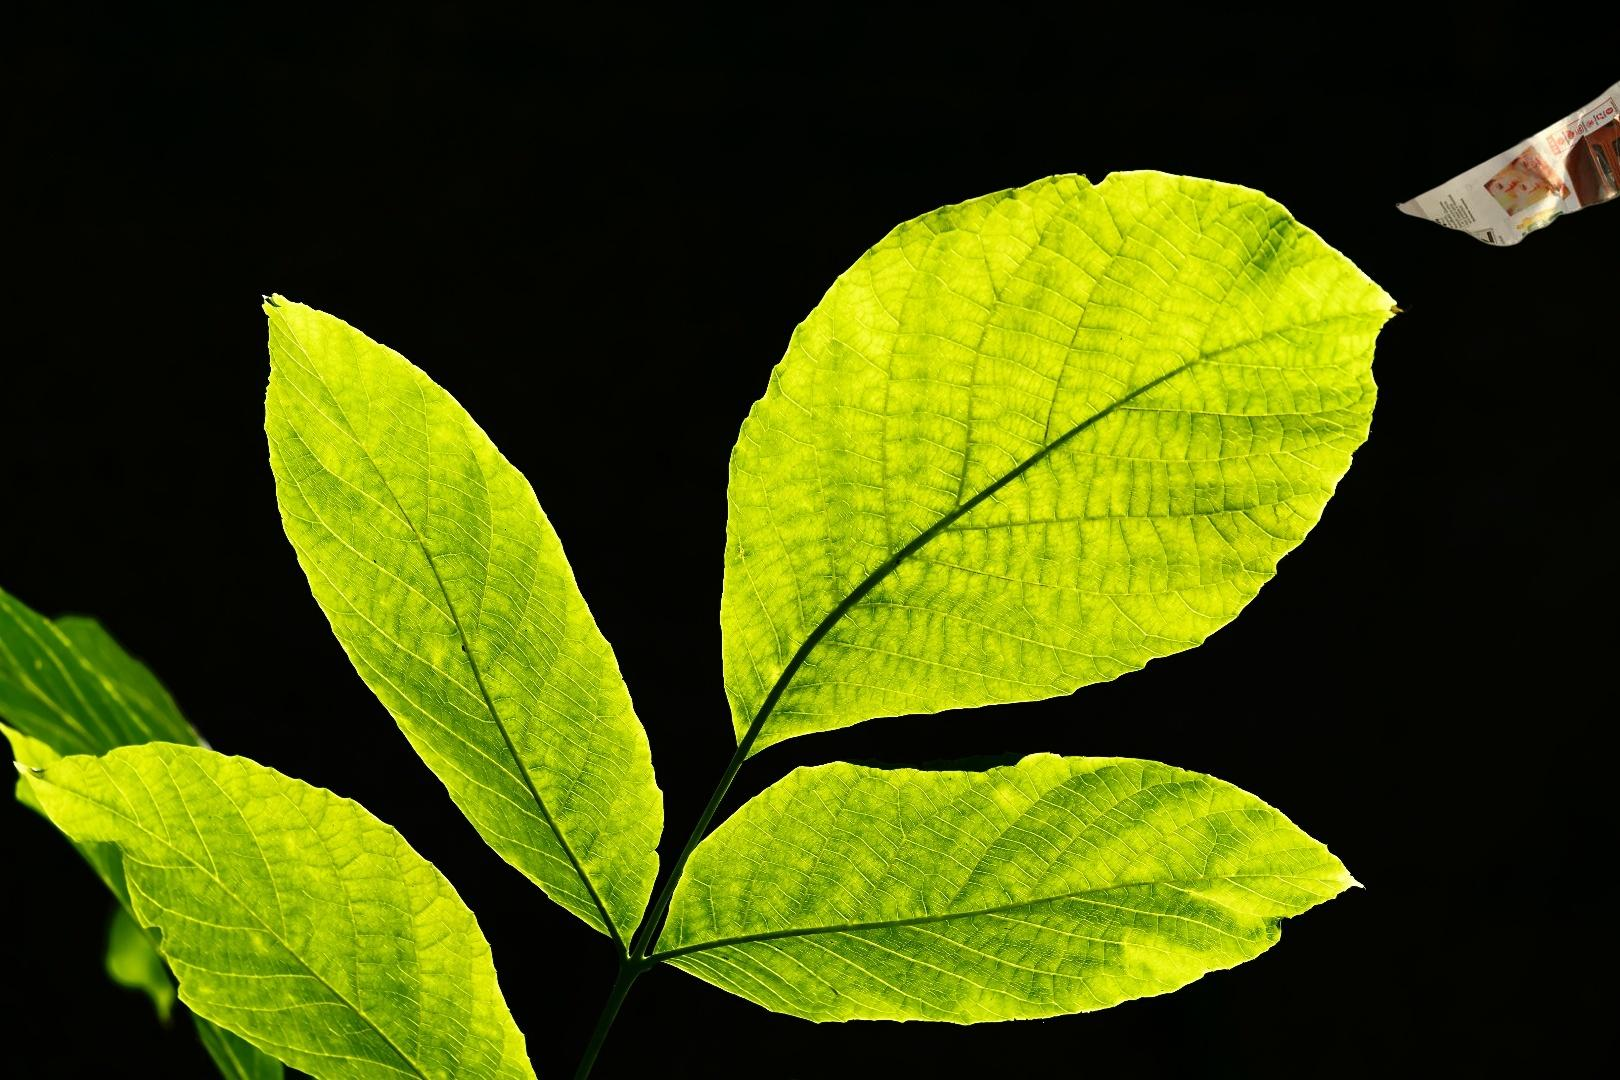paper: (1391, 75, 1620, 250)
